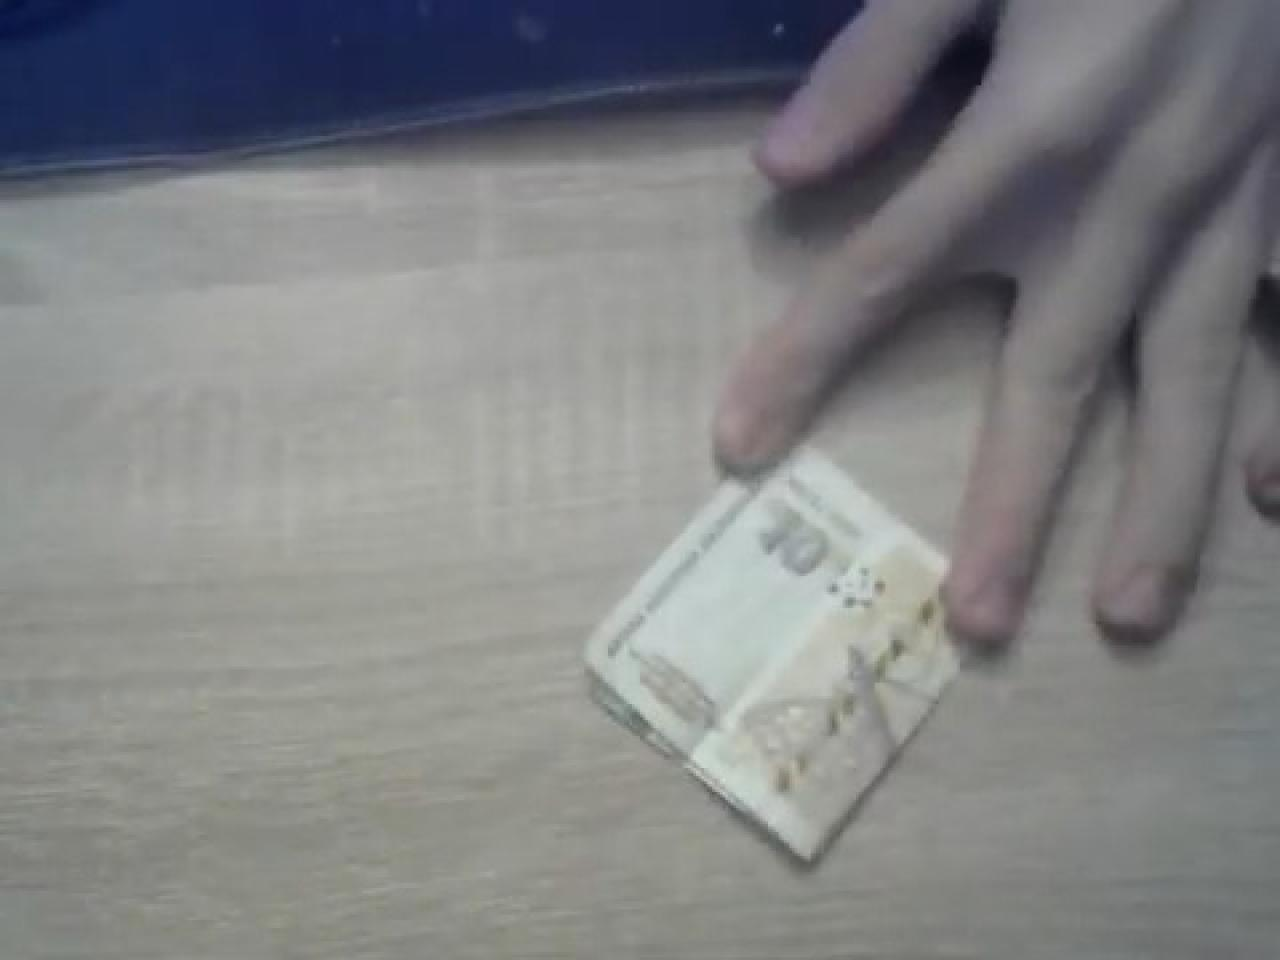10leva: (582, 438, 966, 867)
